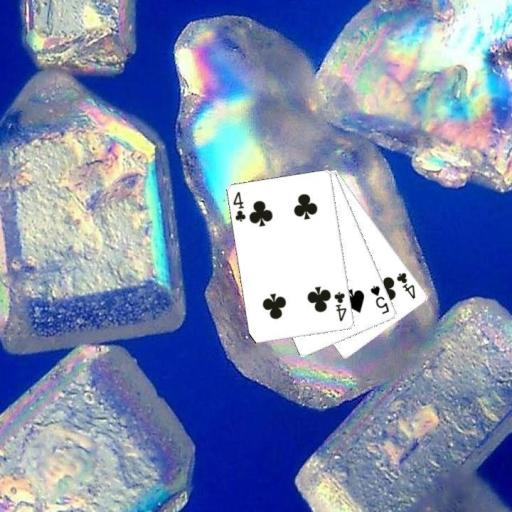4C: (394, 269, 418, 301), (230, 189, 248, 224), (332, 289, 349, 323)
5S: (368, 282, 391, 316)
